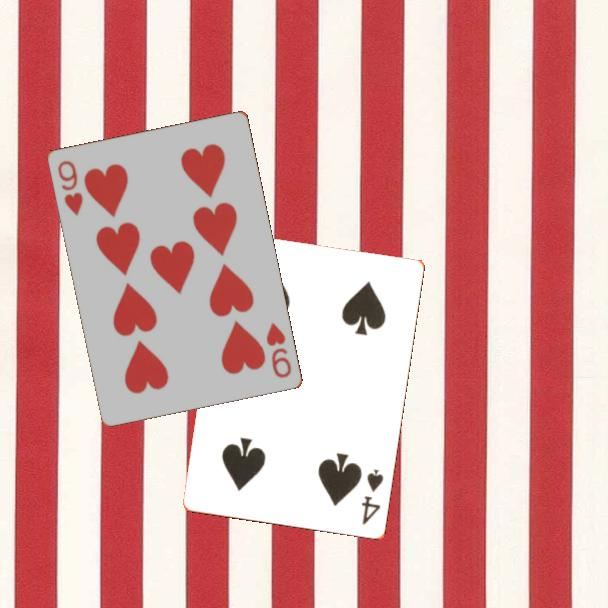h09: (262, 319, 294, 381), (54, 156, 85, 218)
s04: (358, 466, 387, 528)
